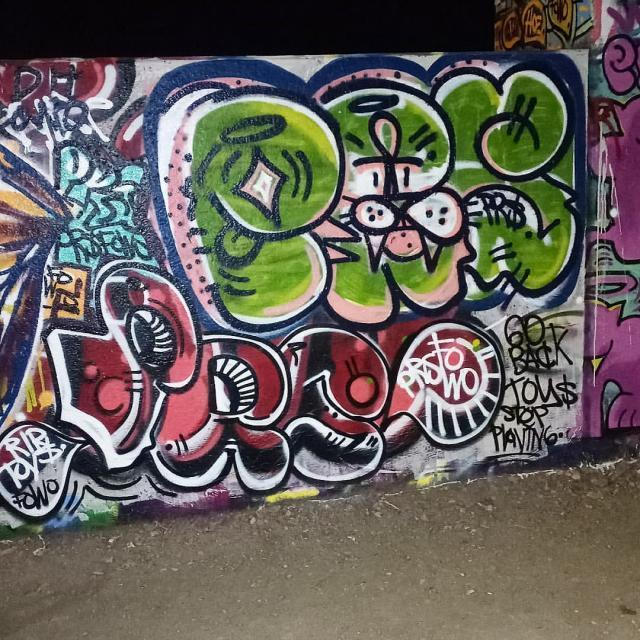-: (150, 72, 573, 295), (63, 323, 392, 493), (396, 328, 492, 436), (504, 316, 574, 450), (0, 420, 71, 518), (40, 266, 90, 326)
